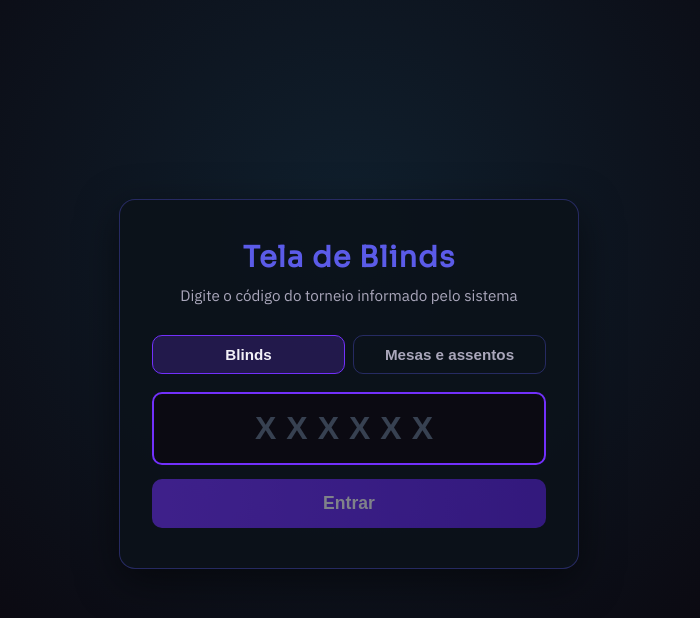
TVCode › sem rede não diz que o código é inválido
Step 1. Type "ABC234" into the field with placeholder "XXXXXX" → (349, 428), box 152,392 -> 546,465
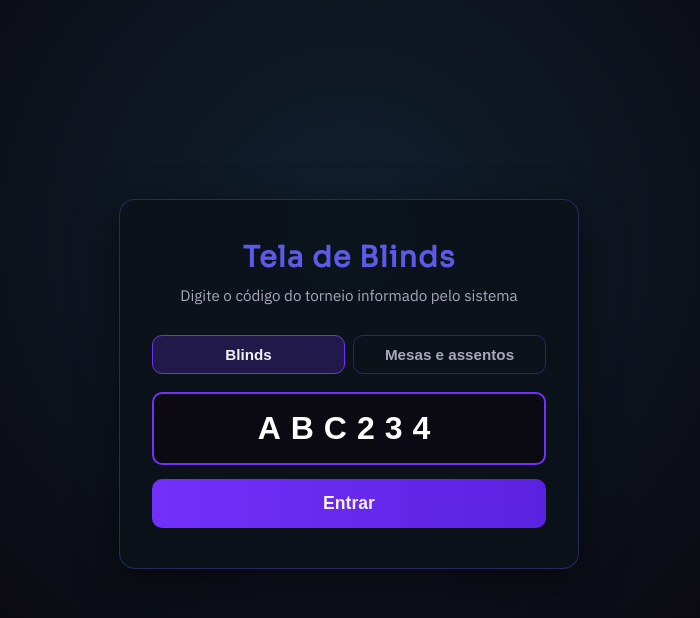
Step 2. Click the button → (349, 503), box 152,479 -> 546,528
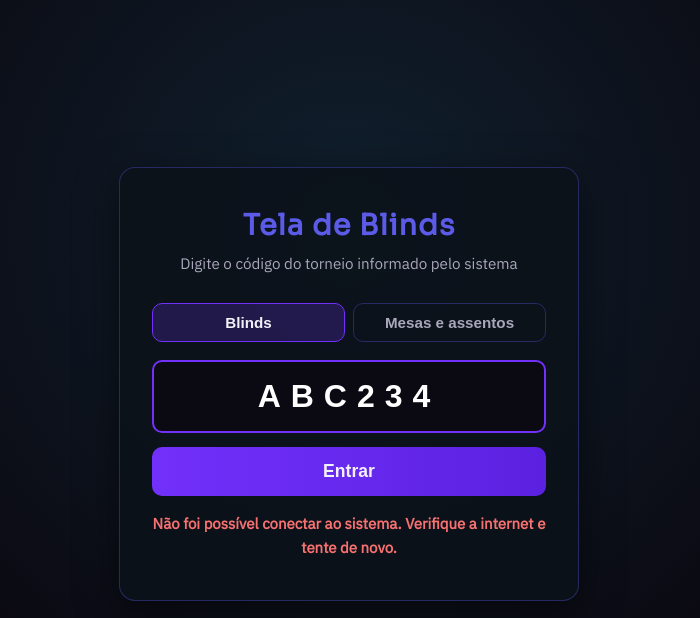
Now the text "Não foi possível conectar" is shown, box 153,514 -> 545,557
